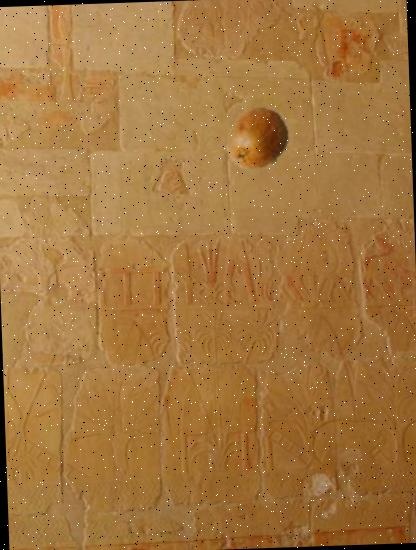Kiwi: (224, 105, 292, 174)
